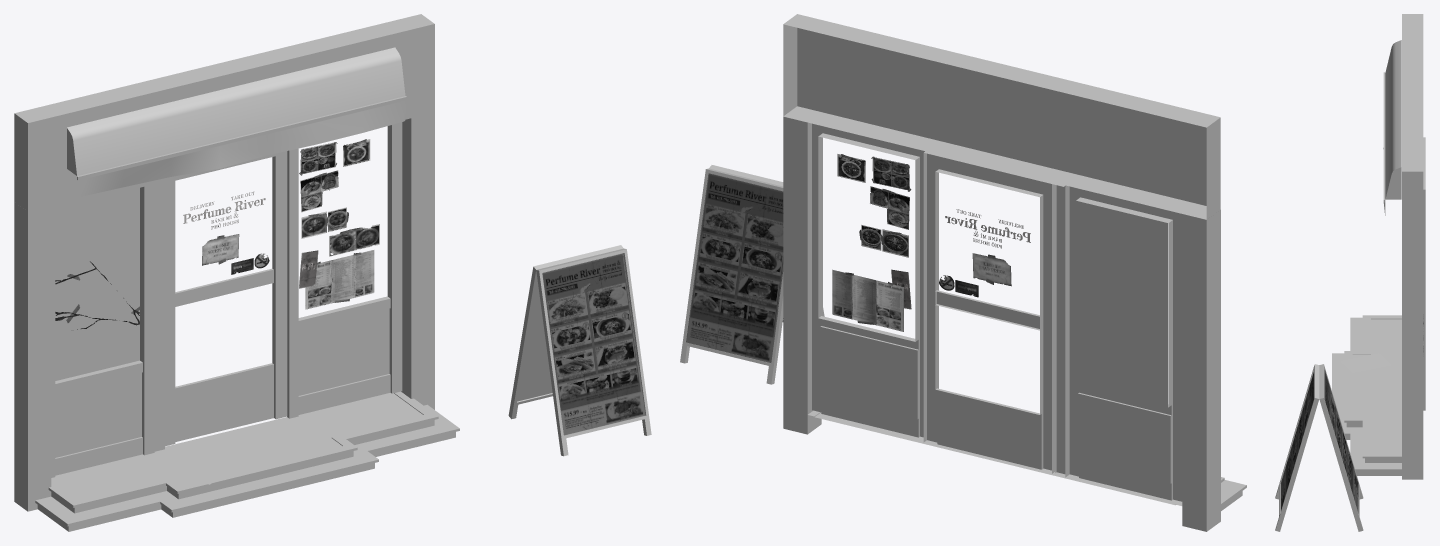
File: Pho.fbx
3 renders of one model, left to right at view 1: azimuth 30°, elevation 25°; view 2: azimuth 150°, elevation 25°; view 3: azimuth 270°, elevation 25°, orthographic. The views are drawn at different scales.
Visible parts, largest first — view 1: storefront, sidewalk_menu, front_door, decals; view 2: storefront, front_door, sidewalk_menu, decals; view 3: storefront, sidewalk_menu, front_door.
Boxes of the visible parts, box(x1,y1,x2,y2) form: storefront: box(14, 14, 459, 531); sidewalk_menu: box(508, 245, 651, 456); front_door: box(165, 151, 287, 446); decals: box(55, 139, 379, 329); storefront: box(783, 14, 1246, 531); front_door: box(923, 151, 1055, 473); sidewalk_menu: box(680, 165, 824, 384); decals: box(832, 154, 911, 331); storefront: box(1332, 14, 1425, 479); sidewalk_menu: box(1275, 364, 1363, 531); front_door: box(1423, 141, 1425, 410).
Bounding box in the file's own units: 406 × 277 × 122.
